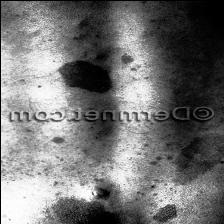Unclassified: (80, 22, 154, 68), (58, 183, 124, 224), (52, 56, 116, 92), (166, 144, 222, 183), (148, 200, 206, 224), (23, 127, 77, 145)
